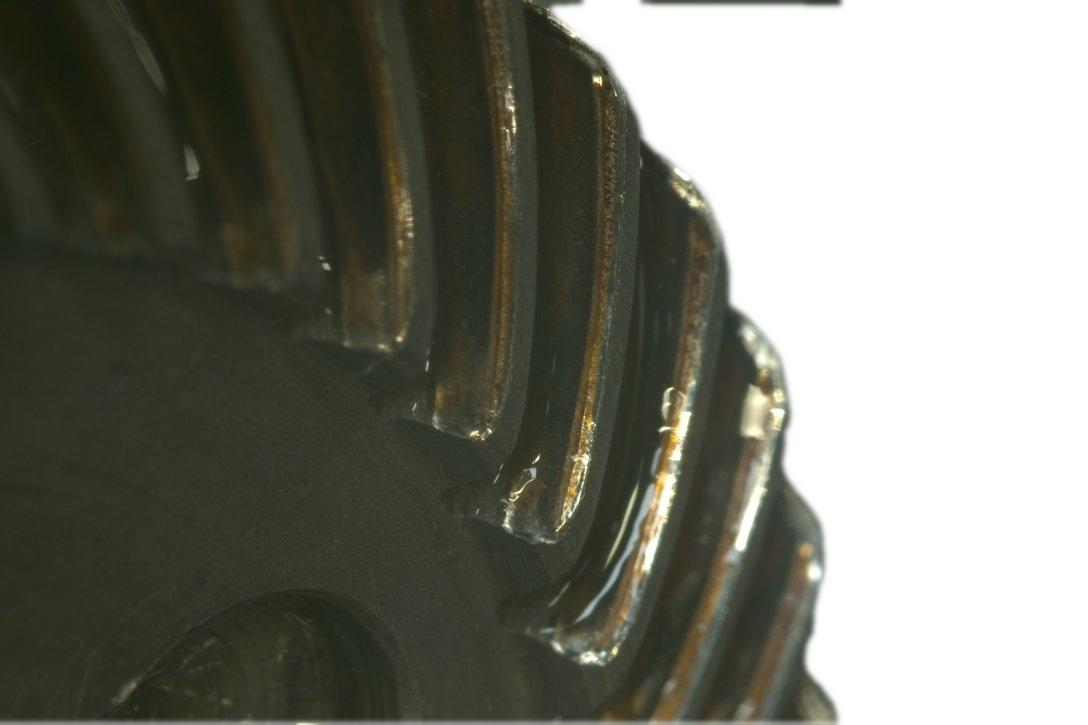defect: (528, 201, 727, 676), (612, 374, 792, 724), (503, 33, 623, 547), (437, 0, 519, 445), (338, 0, 418, 362), (229, 33, 301, 285), (717, 547, 818, 724)
